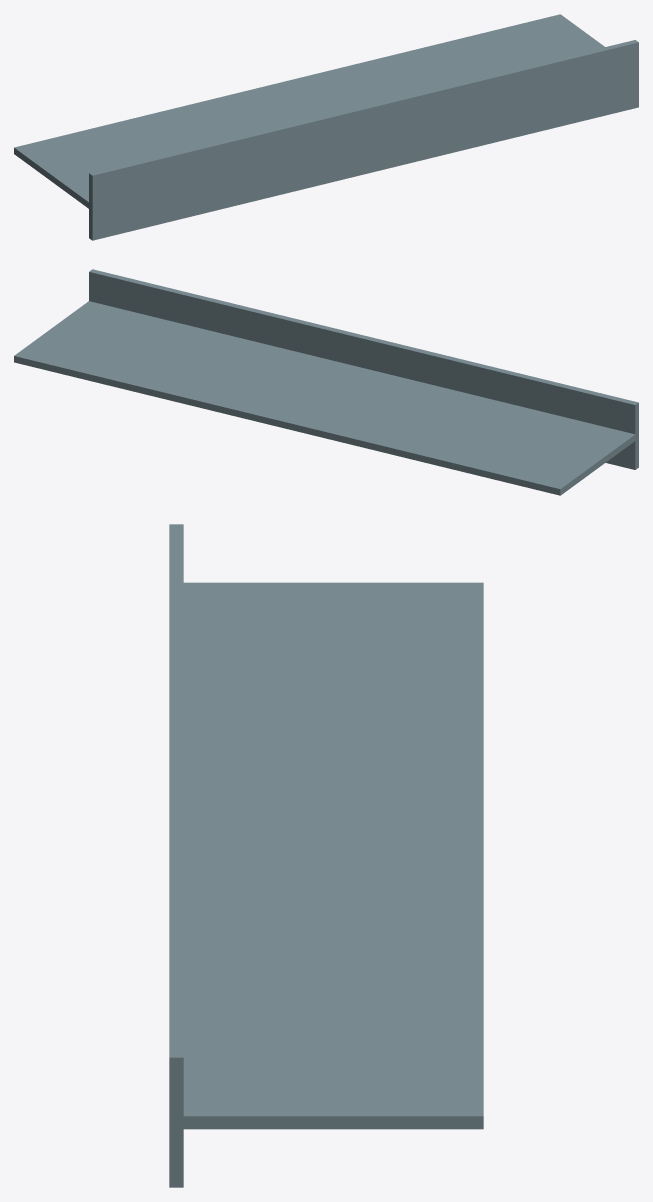
The model's file is step_01.glb.
3 renders of one model, top to bottom at view 1: azimuth 30°, elevation 25°; view 2: azimuth 150°, elevation 25°; view 3: azimuth 270°, elevation 25°, orthographic. The views are drawn at different scales.
Parts seen in each view (by area): view 1: part__girder; view 2: part__girder; view 3: part__girder.
Part boxes in pixels (x1=…): part__girder: x1=14, y1=14, x2=638, y2=240; part__girder: x1=14, y1=269, x2=638, y2=495; part__girder: x1=169, y1=524, x2=483, y2=1187.
Size of the model in its own units: 1760 by 200 by 438.
